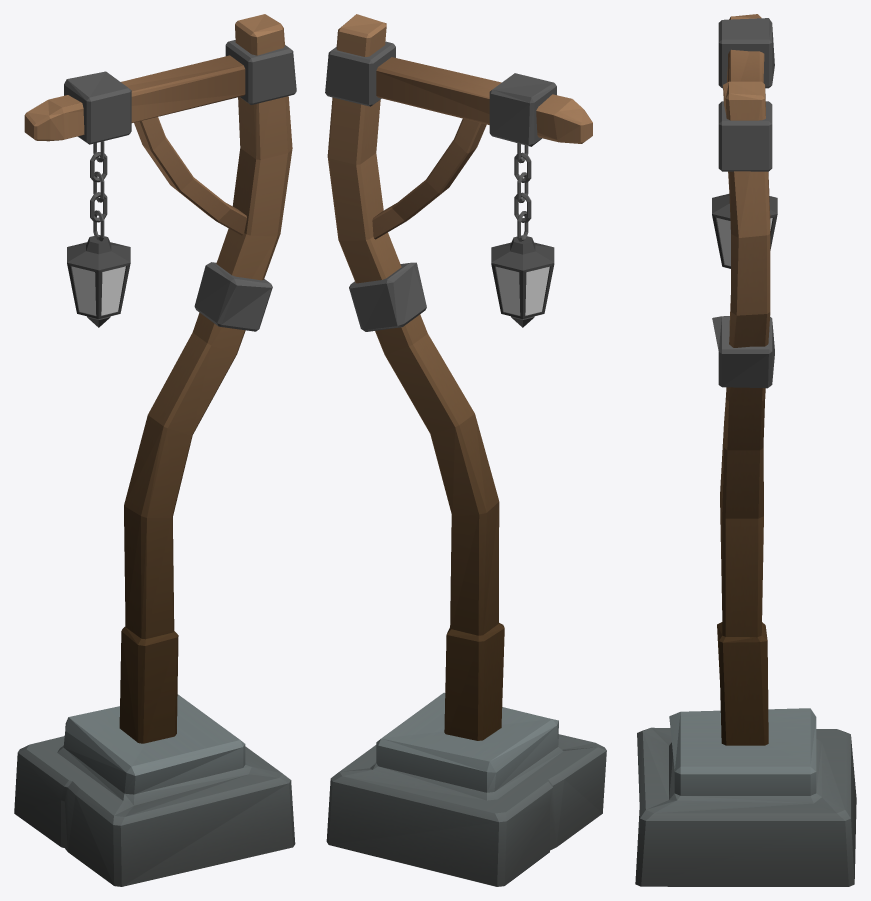
File: ZLP_Build_E_2.FBX
The picture shows the model from 3 angles, left to right: view 1: azimuth 30°, elevation 25°; view 2: azimuth 150°, elevation 25°; view 3: azimuth 270°, elevation 25°; orthographic projection. The views are drawn at different scales.
Parts seen in each view (by area): view 1: ZLP_Build_E_2; view 2: ZLP_Build_E_2; view 3: ZLP_Build_E_2.
Boxes of the visible parts, box(x1,y1,x2,y2) form: ZLP_Build_E_2: box(14, 14, 296, 886); ZLP_Build_E_2: box(325, 14, 606, 886); ZLP_Build_E_2: box(635, 14, 856, 886).
Bounding box in the file's own units: 110 × 318 × 78.95.
